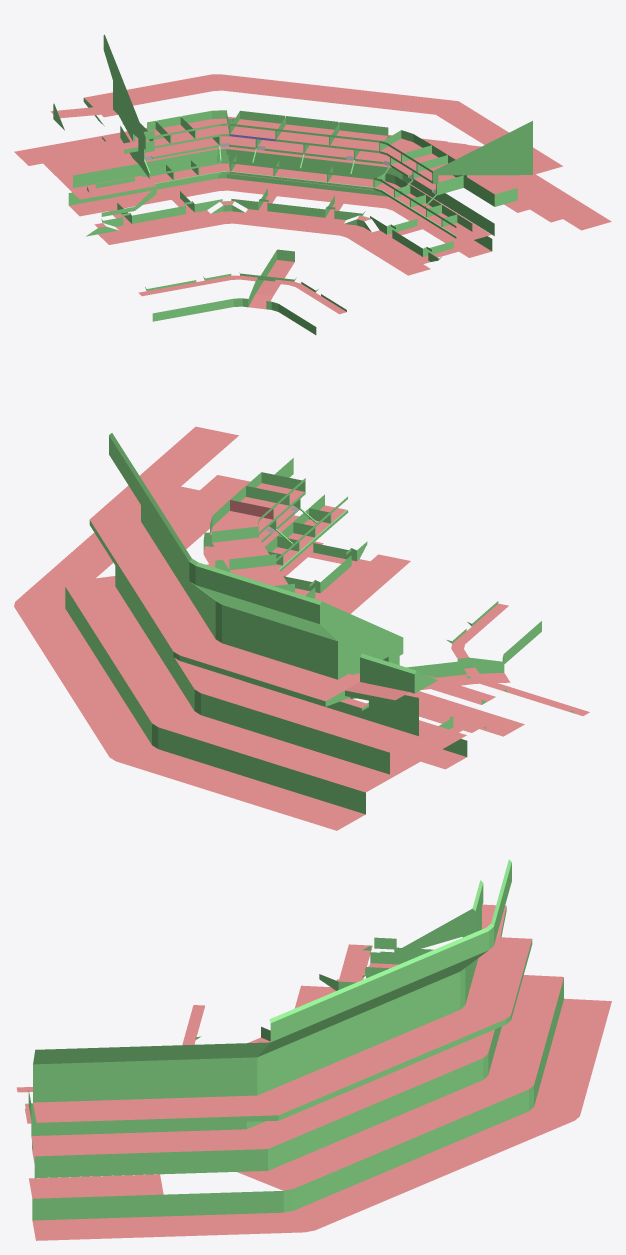
3 views of the same model, one above another, from view 1: azimuth 30°, elevation 25°; view 2: azimuth 150°, elevation 25°; view 3: azimuth 270°, elevation 25° (orthographic). The views are drawn at different scales.
Parts seen in each view (by area): view 1: Base_02; view 2: Base_02; view 3: Base_02.
Boxes of the visible parts, x1,y1,x2,y2 form: Base_02: (14,34,611,334); Base_02: (14,426,589,830); Base_02: (16,859,611,1240).
Bounding box in the file's own units: 132 × 51.2 × 127.
